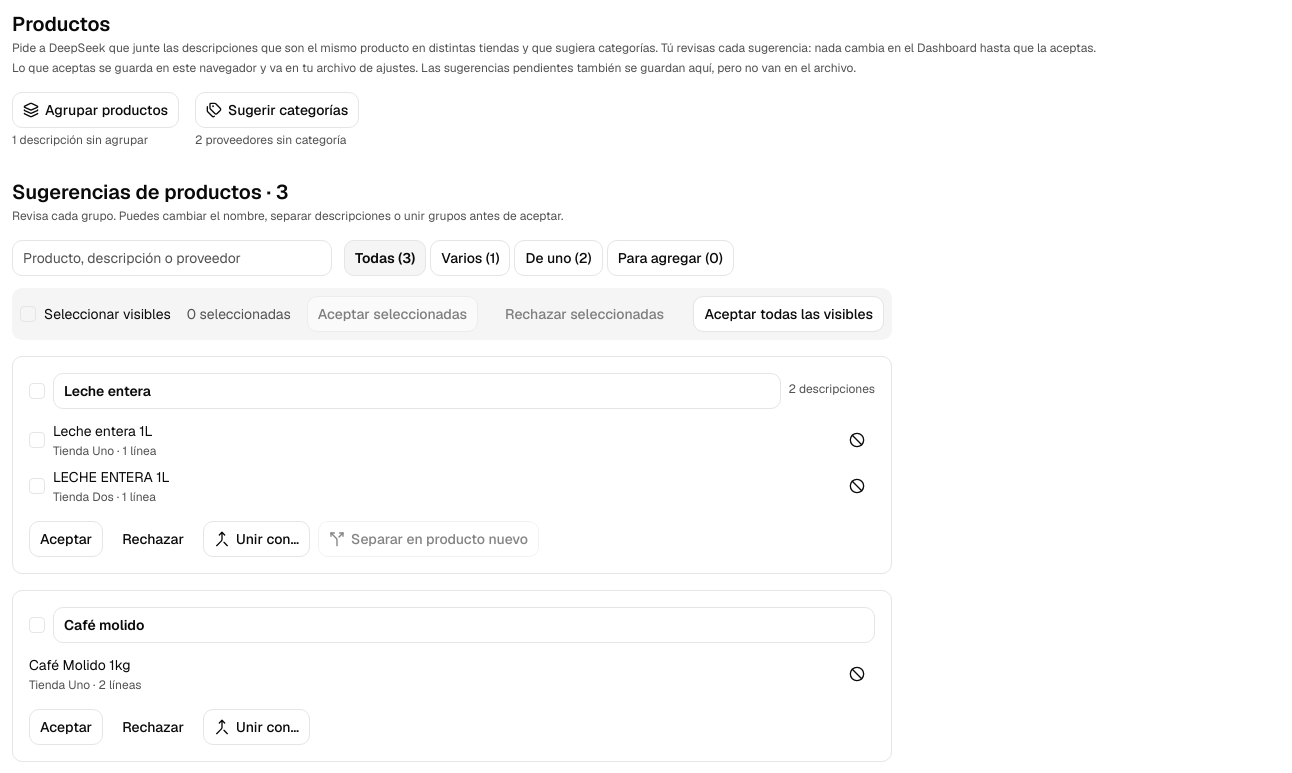
Scenario: «Aceptar» creates the product (LLM-04, D-06, D-09) › stores a product with a prod_ id, the card name, no category and the four member fields, and removes the card
Click the button "Aceptar" below "Tienda Dos · 1 línea".
click(66, 539)  # box x1=29 y1=521 x2=103 y2=557
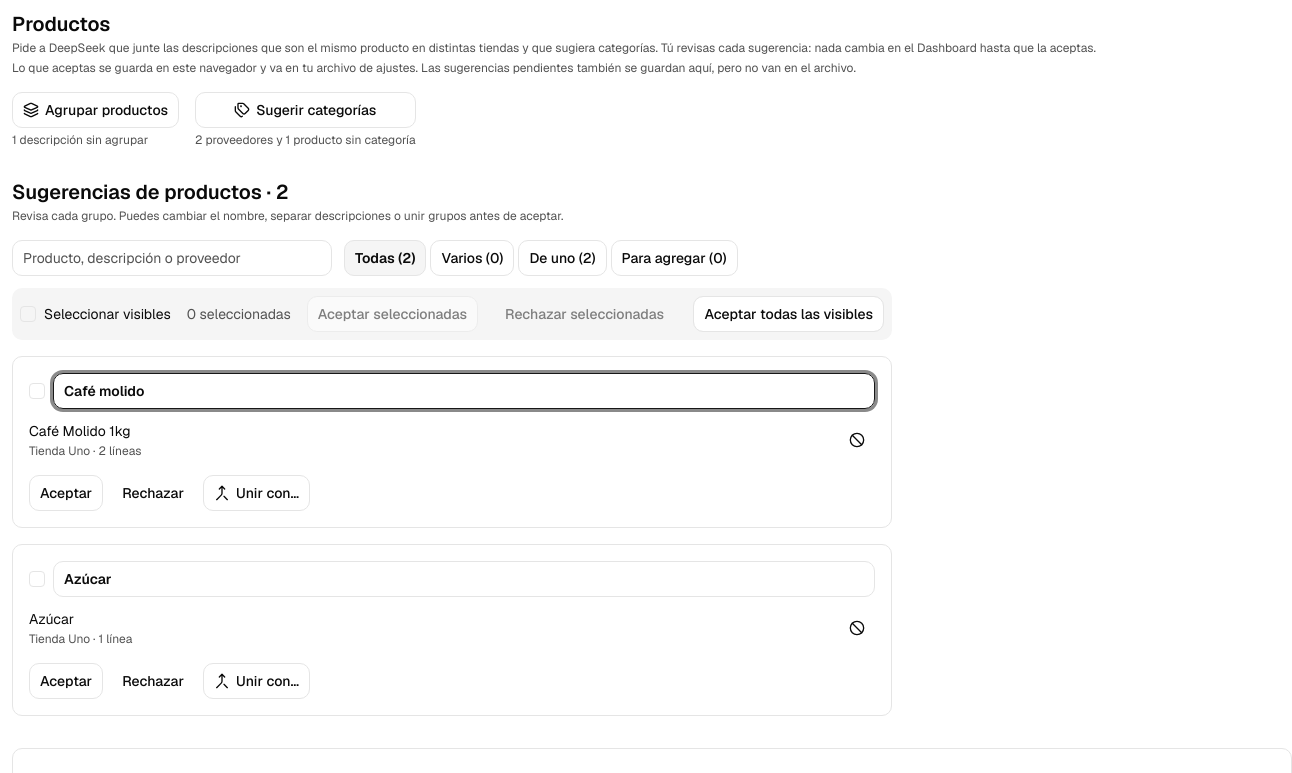
Check: the heading "Sugerencias de productos · 2" is shown, box x1=12 y1=179 x2=288 y2=205
